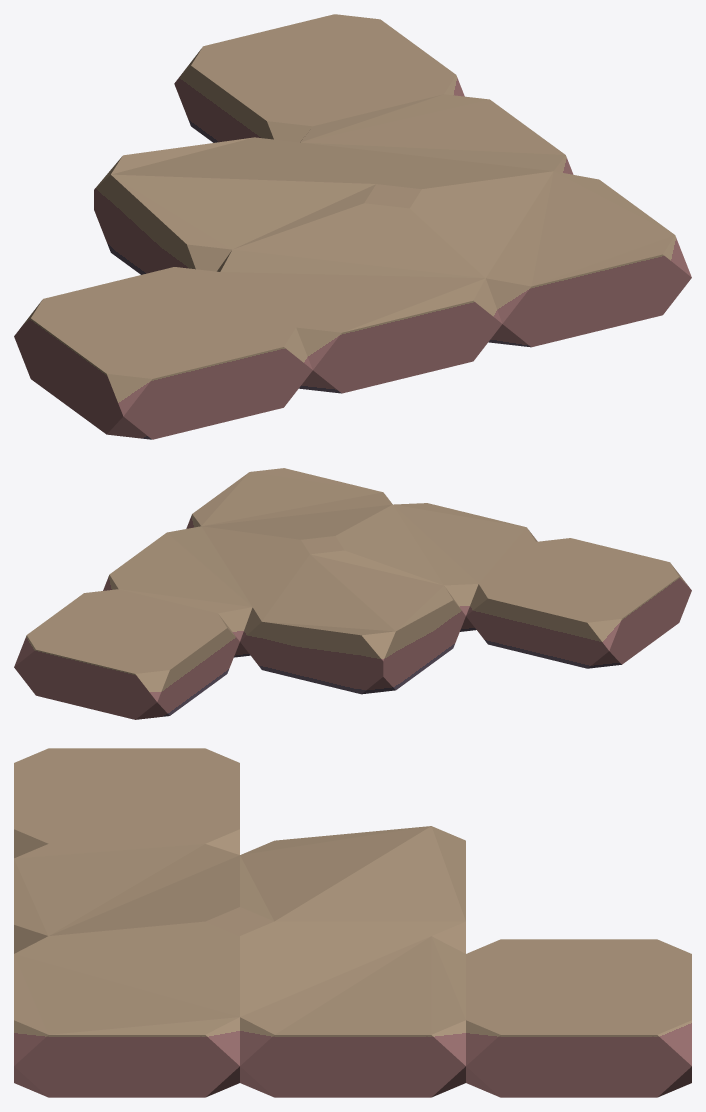
File: Tiles 2.002.fbx
3 renders of one model, top to bottom at view 1: azimuth 30°, elevation 25°; view 2: azimuth 150°, elevation 25°; view 3: azimuth 270°, elevation 25°, orthographic. The views are drawn at different scales.
Visible parts, largest first — view 1: Tiles 2.002; view 2: Tiles 2.002; view 3: Tiles 2.002.
Part boxes in pixels (<box>): Tiles 2.002: <box>14,14,691,439</box>; Tiles 2.002: <box>14,468,691,719</box>; Tiles 2.002: <box>14,748,691,1097</box>.
Bounding box in the file's own units: 495 × 64.97 × 495.
